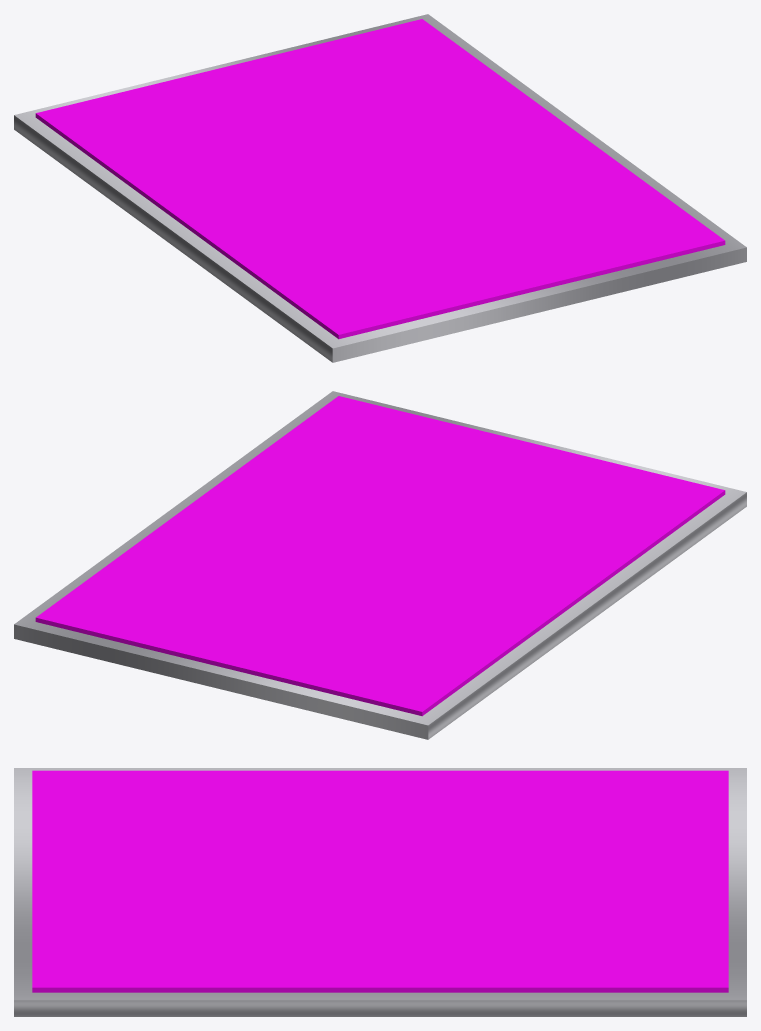
Rendered from mirror.obj.
The picture shows the model from 3 angles, top to bottom: view 1: azimuth 30°, elevation 25°; view 2: azimuth 150°, elevation 25°; view 3: azimuth 270°, elevation 25°; orthographic projection. The views are drawn at different scales.
Bounding box in the file's own units: 0.6 × 0.026 × 0.8.
Materials: 1 (1 with a texture image).
